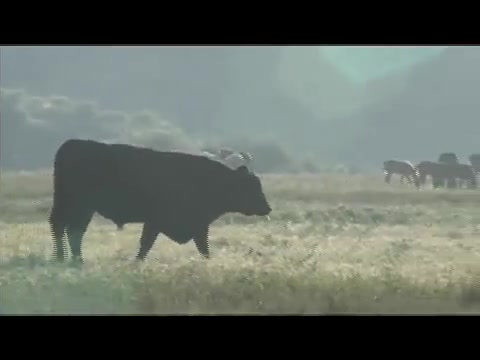cow: (44, 138, 273, 267), (381, 161, 423, 187), (419, 159, 454, 190), (439, 165, 480, 191)
